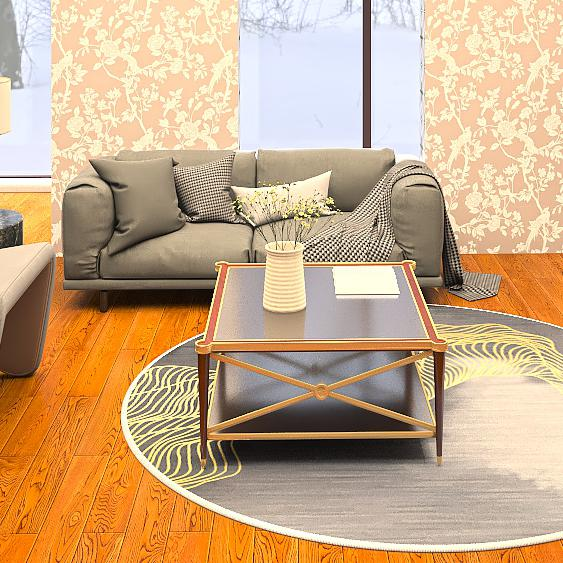table: (196, 264, 449, 474)
